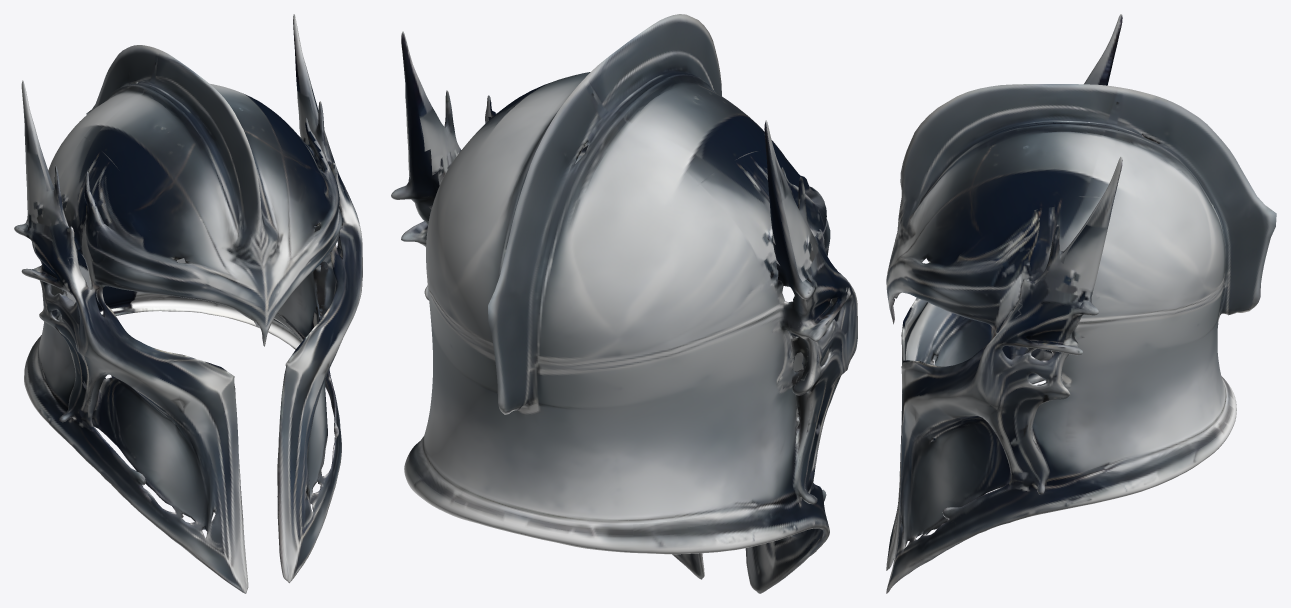
File: base_basic_pbr.glb
The picture shows the model from 3 angles, left to right: view 1: azimuth 30°, elevation 25°; view 2: azimuth 150°, elevation 25°; view 3: azimuth 270°, elevation 25°; orthographic projection. The views are drawn at different scales.
Parts seen in each view (by area): view 1: model; view 2: model; view 3: model.
Boxes of the visible parts, x1,y1,x2,y2 form: model: (14,14,362,593); model: (391,14,857,593); model: (886,14,1276,593).
Bounding box in the file's own units: 1.33 × 1.89 × 1.34.
Materials: 1 (1 with a texture image).
